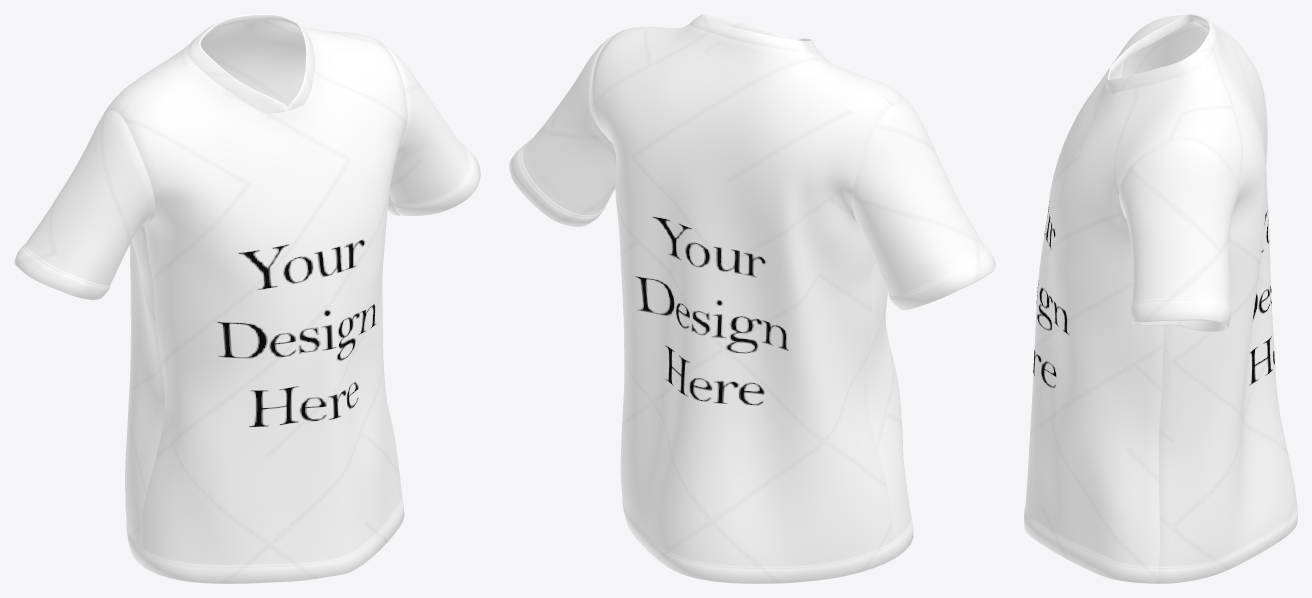
3 renders of one model, left to right at view 1: azimuth 30°, elevation 25°; view 2: azimuth 150°, elevation 25°; view 3: azimuth 270°, elevation 25°, orthographic. The views are drawn at different scales.
Visible parts, largest first — view 1: T-shirt procedural texture; view 2: T-shirt procedural texture; view 3: T-shirt procedural texture.
Boxes of the visible parts, left/top/right/bottom form: T-shirt procedural texture: left=14, top=14, right=480, bottom=583; T-shirt procedural texture: left=509, top=14, right=995, bottom=583; T-shirt procedural texture: left=1024, top=14, right=1297, bottom=583.
Size of the model in its own units: 0.6763 by 0.7167 by 0.3585.
1 material, 1 textured.
